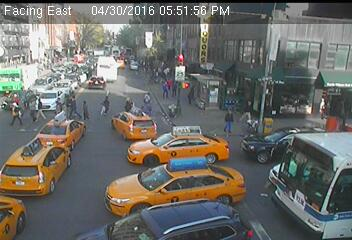neg: (17, 159, 37, 185), (107, 201, 126, 226), (273, 127, 291, 151), (206, 180, 223, 203), (236, 150, 253, 172), (51, 190, 67, 212), (28, 41, 44, 62), (54, 53, 70, 73), (259, 47, 274, 68), (305, 151, 319, 171), (199, 33, 212, 51), (179, 163, 192, 181), (135, 180, 148, 196), (160, 34, 172, 50), (78, 163, 90, 178), (129, 59, 140, 74), (87, 63, 98, 78), (234, 41, 245, 56), (120, 44, 130, 58), (291, 21, 301, 35), (98, 60, 108, 73), (301, 51, 311, 64), (311, 186, 321, 199), (287, 100, 295, 111), (70, 36, 78, 46)
pos: (217, 103, 239, 132), (75, 98, 94, 123), (5, 101, 24, 126), (65, 93, 82, 116), (51, 95, 68, 118), (31, 96, 48, 119), (98, 94, 115, 116), (155, 80, 171, 101), (139, 88, 154, 109), (120, 94, 135, 115)
